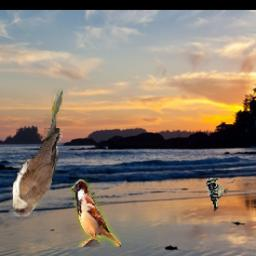Cuckoo: (9, 87, 64, 216)
Sparrow: (71, 180, 122, 248)
Woodpecker: (206, 178, 229, 212)
